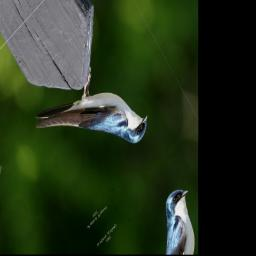Swallow: (31, 37, 154, 209)
